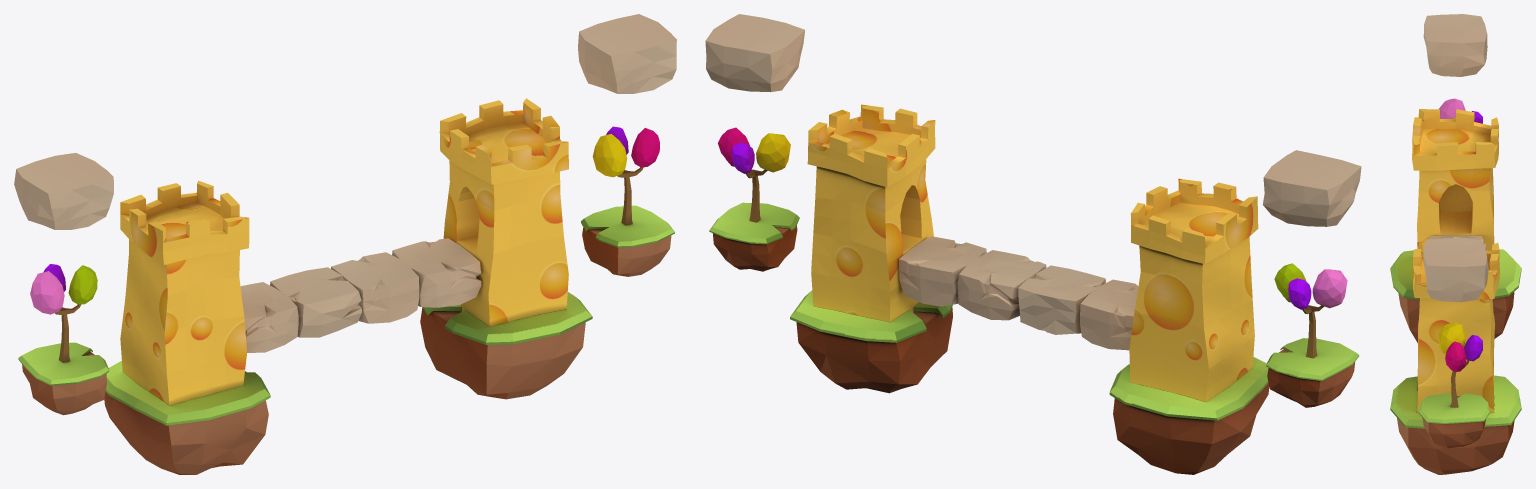
File: candySceneDay.glb
3 renders of one model, left to right at view 1: azimuth 30°, elevation 25°; view 2: azimuth 150°, elevation 25°; view 3: azimuth 270°, elevation 25°, orthographic. The views are drawn at different scales.
Parts seen in each view (by area): view 1: CastleLeft, CastleRight, GroundLeft, GroundRight, StoneRight, StoneLeft, GroundMiniRight, GroundMiniLeft, StoneCrunch2, StoneCrunch4, StoneCrunch3, StoneCrunch1 (+2 smaller); view 2: CastleLeft, CastleRight, GroundLeft, GroundRight, StoneRight, StoneLeft, GroundMiniLeft, GroundMiniRight, StoneCrunch3, StoneCrunch2, StoneCrunch4, StoneCrunch1 (+2 smaller); view 3: CastleLeft, CastleRight, GroundRight, StoneRight, StoneLeft, GroundMiniRight, GroundLeft, TreeRight, TreeLeft, StoneCrunch1.
Boxes of the visible parts, x1=… form: CastleLeft: x1=120, y1=180, x2=249, y2=405; CastleRight: x1=439, y1=98, x2=568, y2=326; GroundLeft: x1=104, y1=360, x2=270, y2=474; GroundRight: x1=420, y1=292, x2=592, y2=399; StoneRight: x1=578, y1=14, x2=676, y2=93; StoneLeft: x1=14, y1=153, x2=113, y2=229; GroundMiniRight: x1=581, y1=205, x2=674, y2=276; GroundMiniLeft: x1=18, y1=342, x2=109, y2=415; StoneCrunch2: x1=270, y1=267, x2=361, y2=337; StoneCrunch4: x1=392, y1=238, x2=481, y2=307; StoneCrunch3: x1=331, y1=252, x2=419, y2=323; StoneCrunch1: x1=240, y1=282, x2=298, y2=352; CastleLeft: x1=1129, y1=178, x2=1258, y2=402; CastleRight: x1=807, y1=104, x2=935, y2=322; GroundLeft: x1=1109, y1=357, x2=1269, y2=474; GroundRight: x1=790, y1=290, x2=952, y2=393; StoneRight: x1=705, y1=14, x2=804, y2=91; StoneLeft: x1=1262, y1=150, x2=1361, y2=226; GroundMiniLeft: x1=1266, y1=338, x2=1359, y2=407; GroundMiniRight: x1=709, y1=202, x2=799, y2=271; StoneCrunch3: x1=957, y1=250, x2=1046, y2=320; StoneCrunch2: x1=1018, y1=265, x2=1105, y2=334; StoneCrunch4: x1=899, y1=236, x2=986, y2=306; StoneCrunch1: x1=1080, y1=279, x2=1138, y2=350; CastleLeft: x1=1412, y1=109, x2=1498, y2=251; CastleRight: x1=1413, y1=237, x2=1499, y2=412; GroundRight: x1=1390, y1=375, x2=1521, y2=474; StoneRight: x1=1423, y1=237, x2=1488, y2=302; StoneLeft: x1=1423, y1=14, x2=1487, y2=76; GroundMiniRight: x1=1419, y1=393, x2=1489, y2=448; GroundLeft: x1=1390, y1=249, x2=1521, y2=342; TreeRight: x1=1438, y1=322, x2=1482, y2=407; TreeLeft: x1=1439, y1=98, x2=1482, y2=123; StoneCrunch1: x1=1428, y1=235, x2=1486, y2=250.
Size of the model in its own units: 15.82 by 7.75 by 3.47.
Materials: 14 (14 with a texture image).
